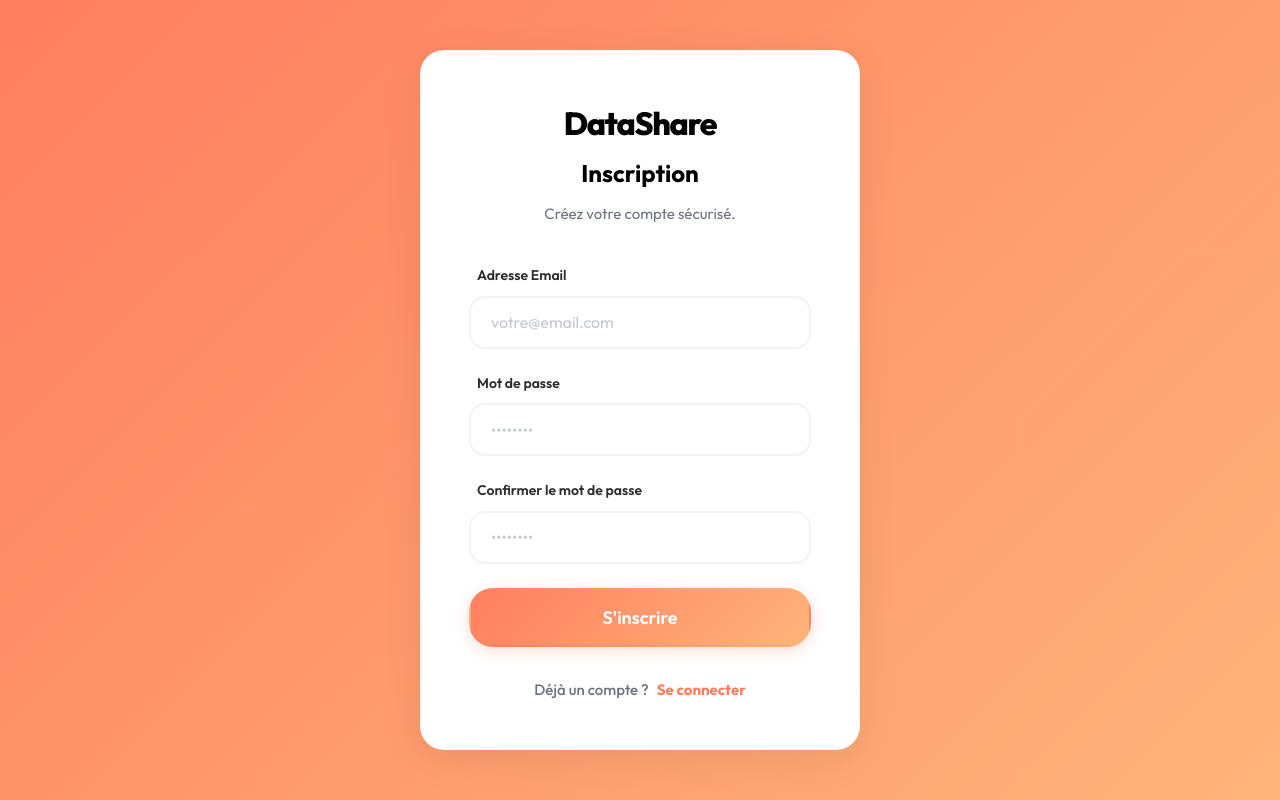
Scenario: Page d'inscription › refuse un mot de passe trop court
Type "test@example.com" into the field with placeholder "votre@email.com".
click(640, 322); type("test@example.com")  # box [469,296,811,349]
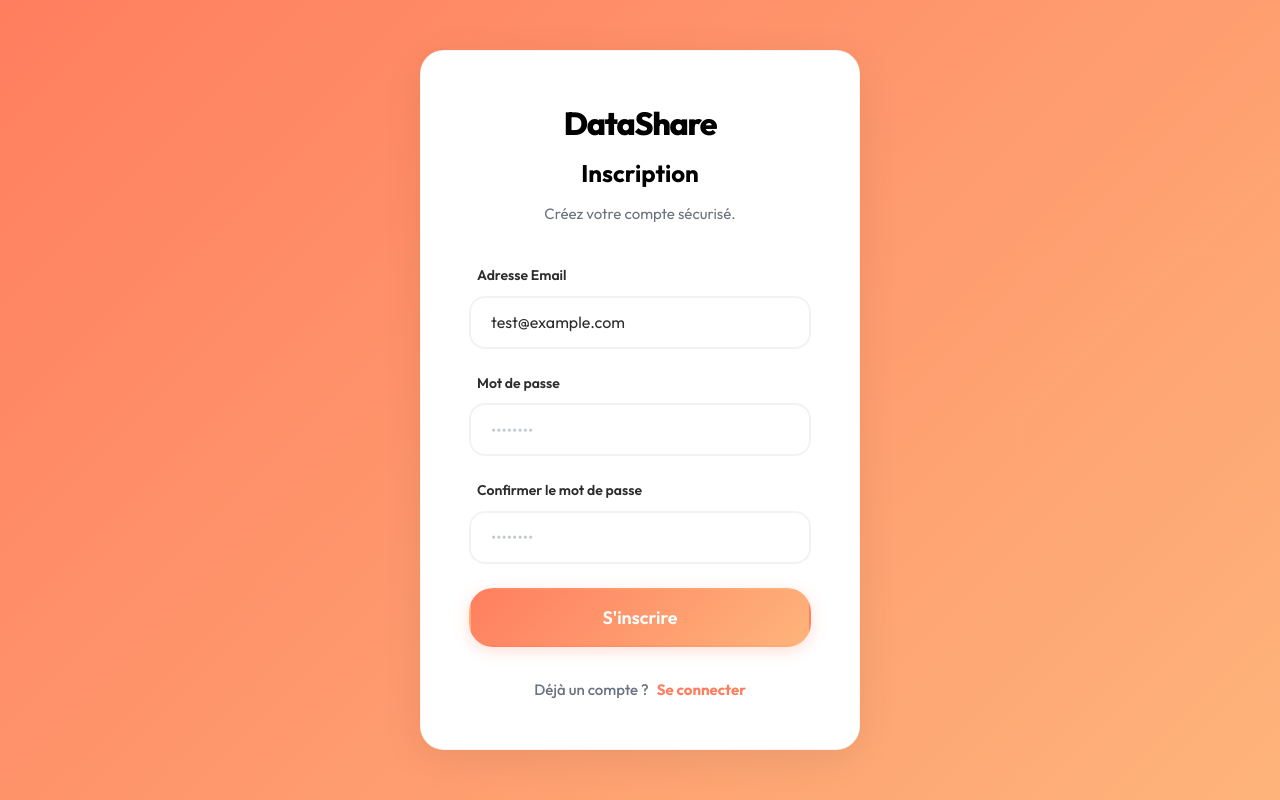
Type "123" into the 1st password field with placeholder "••••••••".
click(640, 430); type("123")  # box [469,403,811,456]
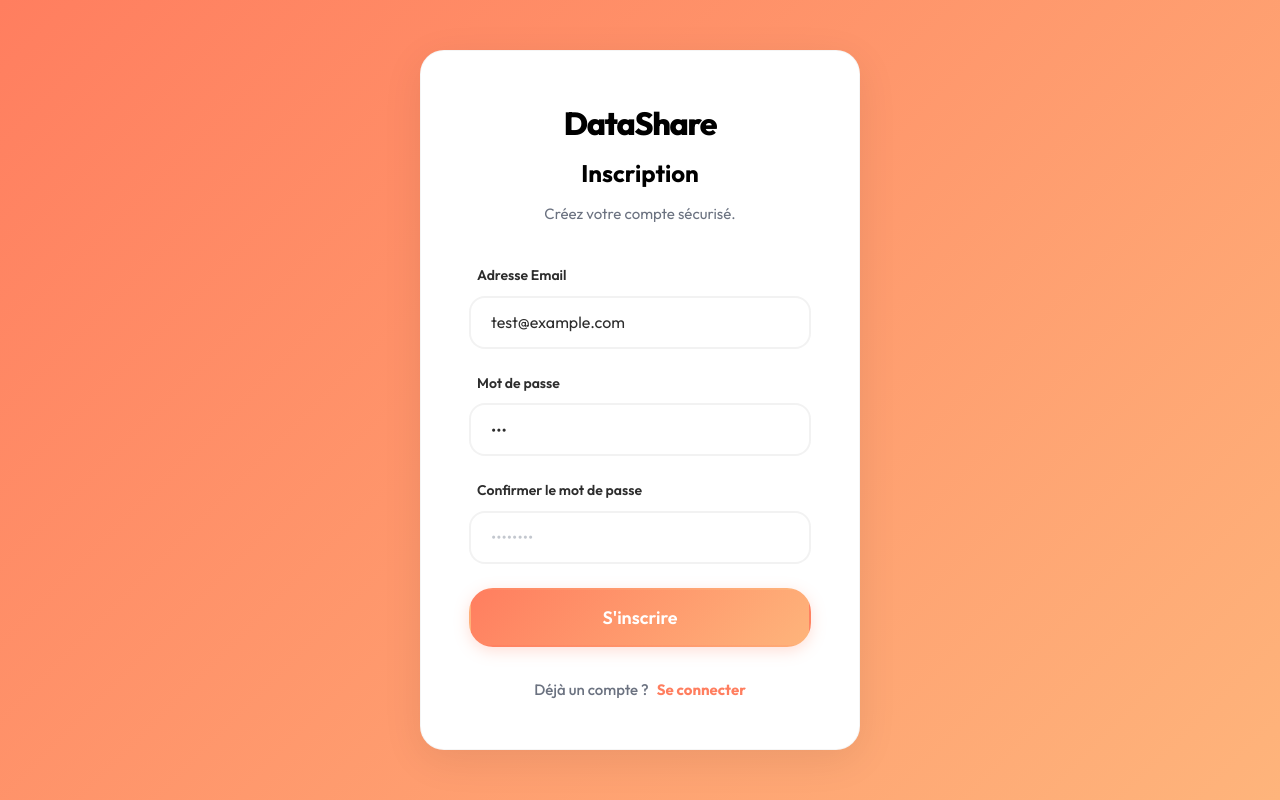
Click the button "S'inscrire".
click(640, 617)  # box [469,588,811,647]
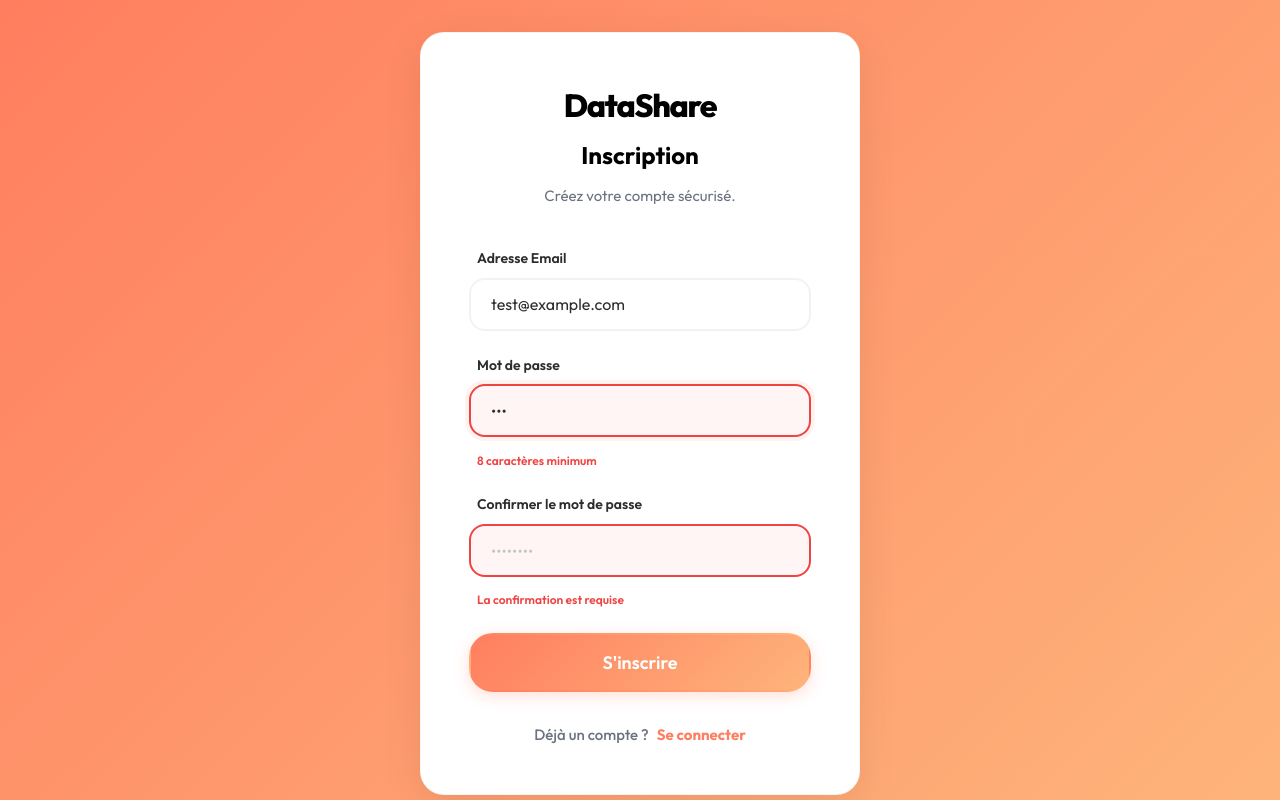
expect the text "8 caractères minimum" is shown: met, box [477,453,597,468]
